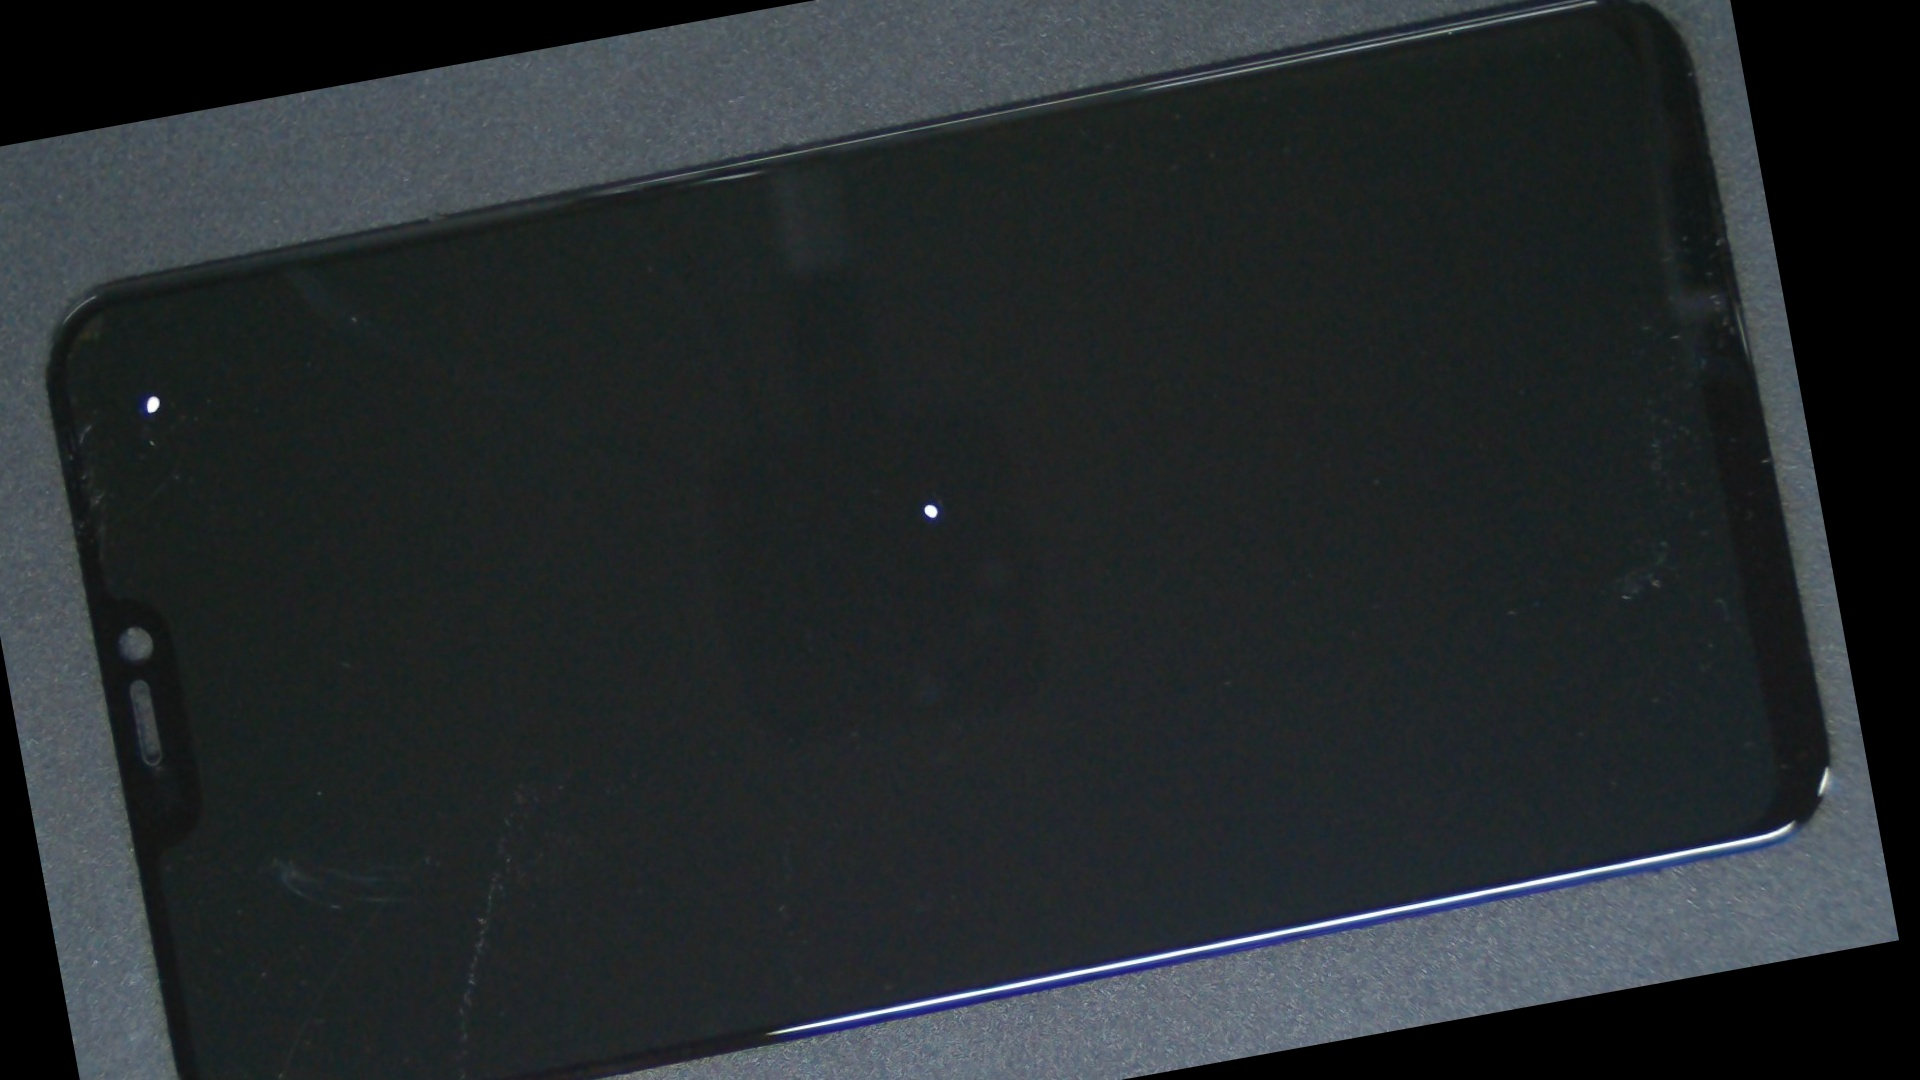oil: (422, 166, 1433, 840), (34, 244, 273, 545)
